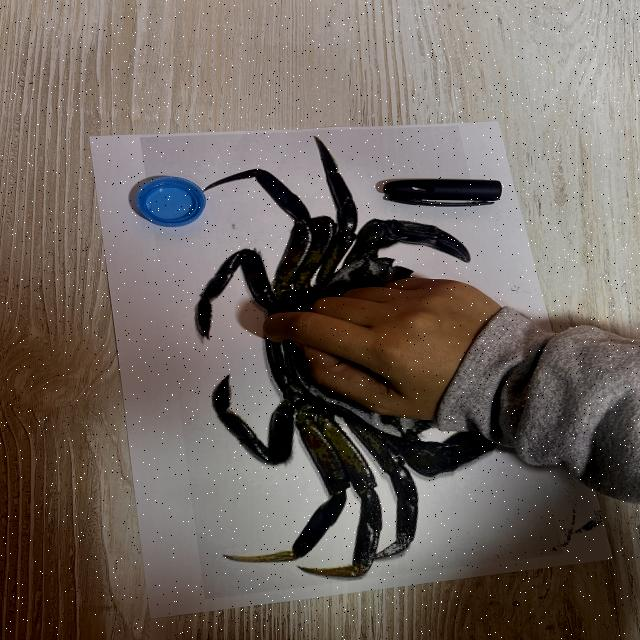European_Green_Crab: (175, 125, 528, 588)
